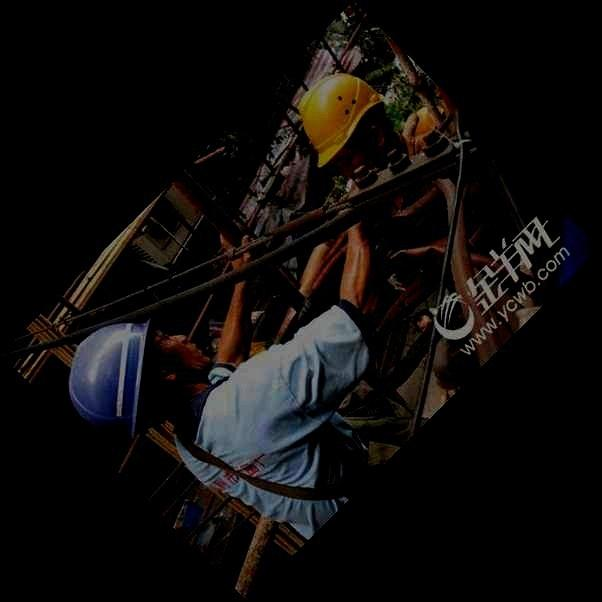helmet: (68, 320, 210, 441), (297, 73, 389, 177)
